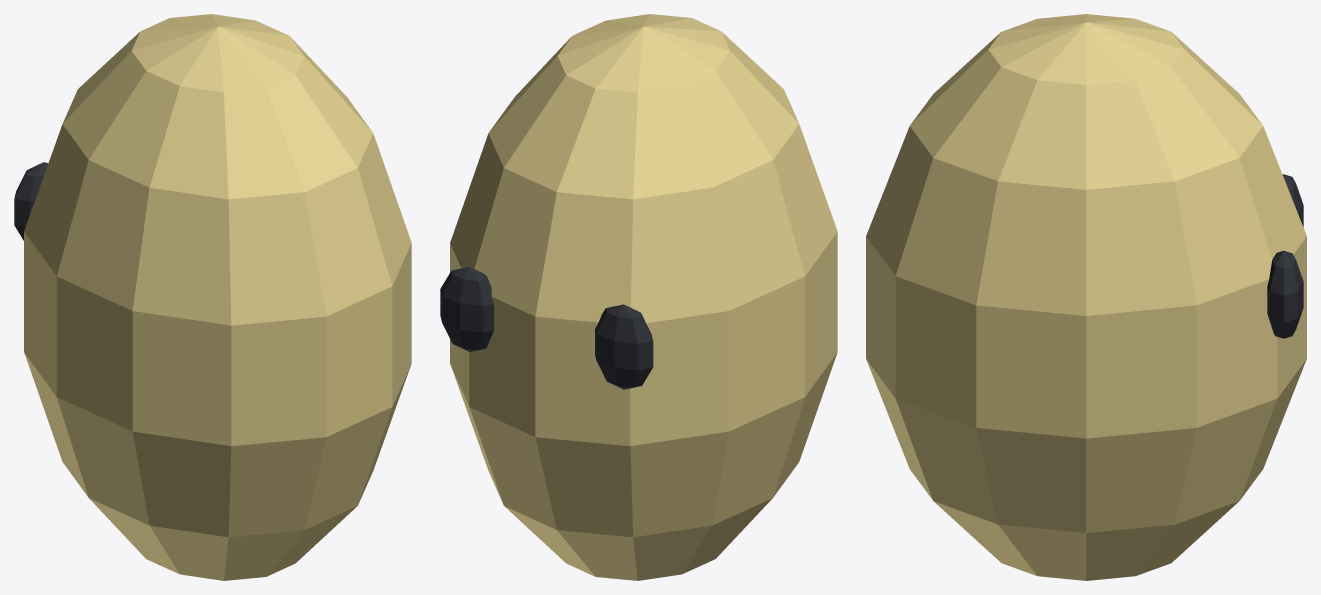
File: gorehulk_c_head.obj
The picture shows the model from 3 angles, left to right: view 1: azimuth 30°, elevation 25°; view 2: azimuth 150°, elevation 25°; view 3: azimuth 270°, elevation 25°; orthographic projection.
Parts seen in each view (by area): view 1: gorehulk_c_head; view 2: gorehulk_c_head; view 3: gorehulk_c_head.
Boxes of the visible parts, x1=… form: gorehulk_c_head: x1=14, y1=14, x2=411, y2=580; gorehulk_c_head: x1=440, y1=14, x2=837, y2=580; gorehulk_c_head: x1=866, y1=14, x2=1306, y2=580.
Size of the model in its own units: 0.2925 by 0.47 by 0.3412.
